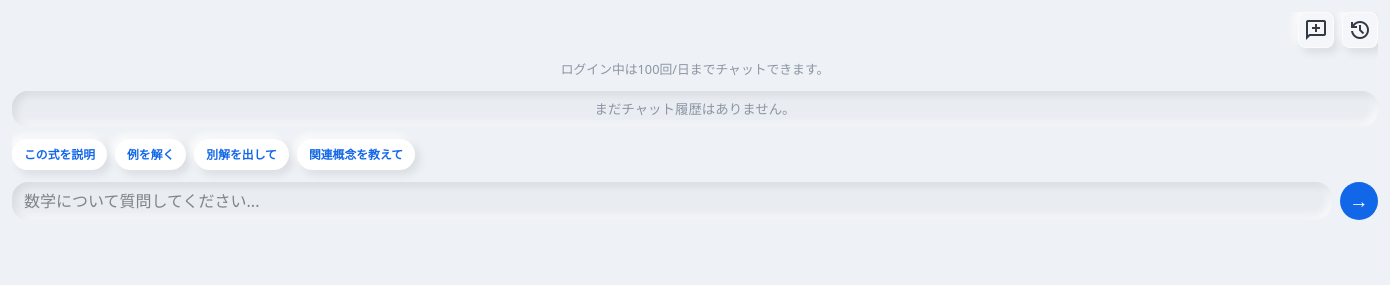
Test: AiChatPanel › 100回上限に達すると送信できない
This screenshot has width=1390, height=285.
Type "説明して" into the field with test id "ai-prompt" at (672, 201), box [12,182,1332,220]
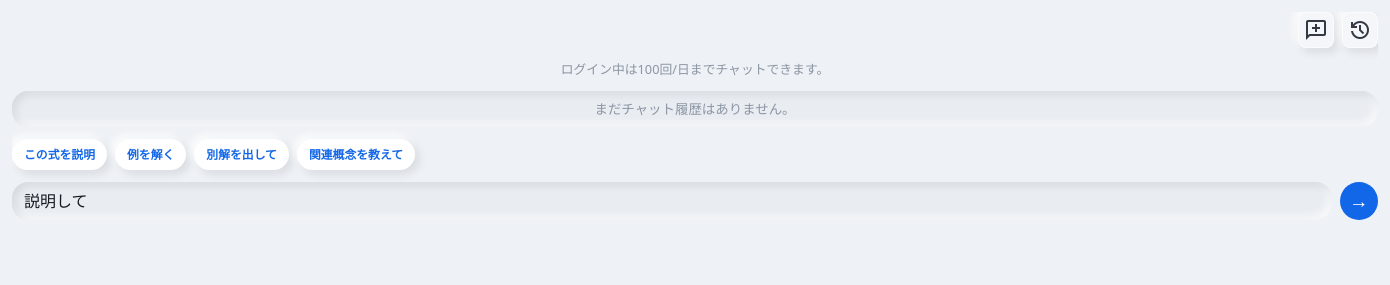
Submit the form, box [12,182,1378,220]
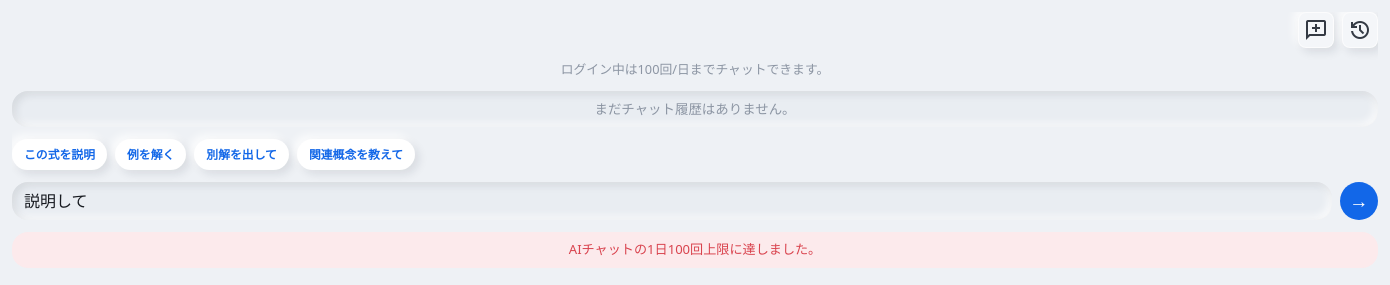
Expected: the text "100回上限" is shown, [569,240,821,258]
